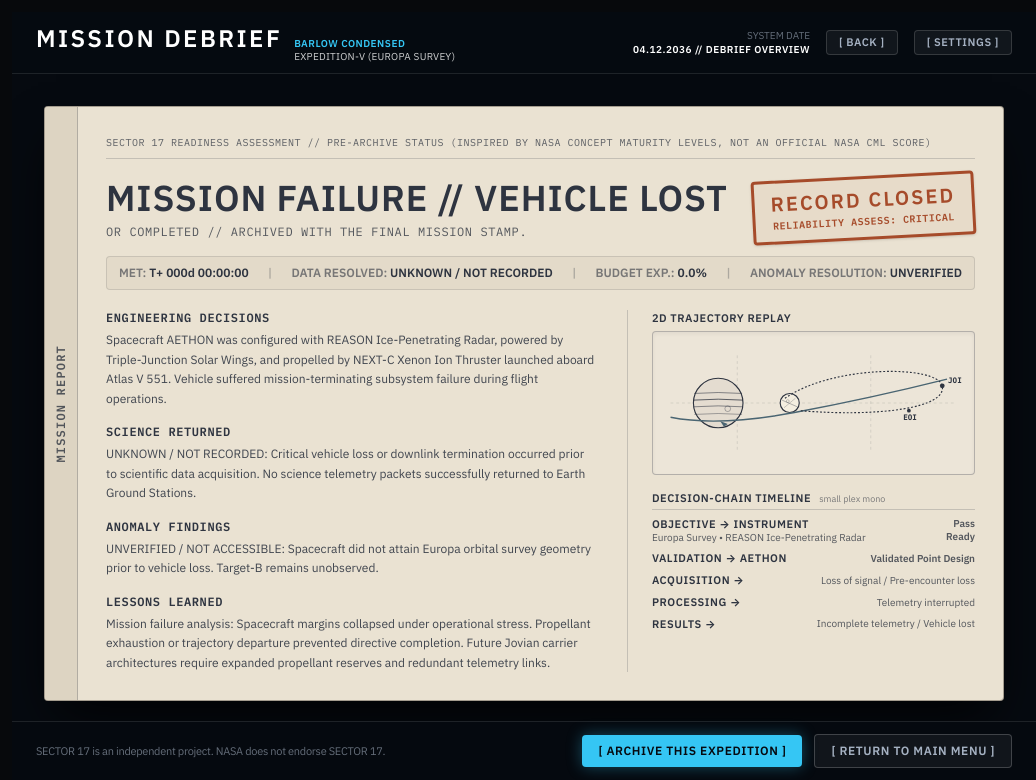
Phase 7.6 / 8.1 Mission Debrief Dossier › 10. navigates back to operations console on [ BACK ] click
Click the button "[ BACK ]".
click(862, 43)  # box [826, 30, 898, 55]
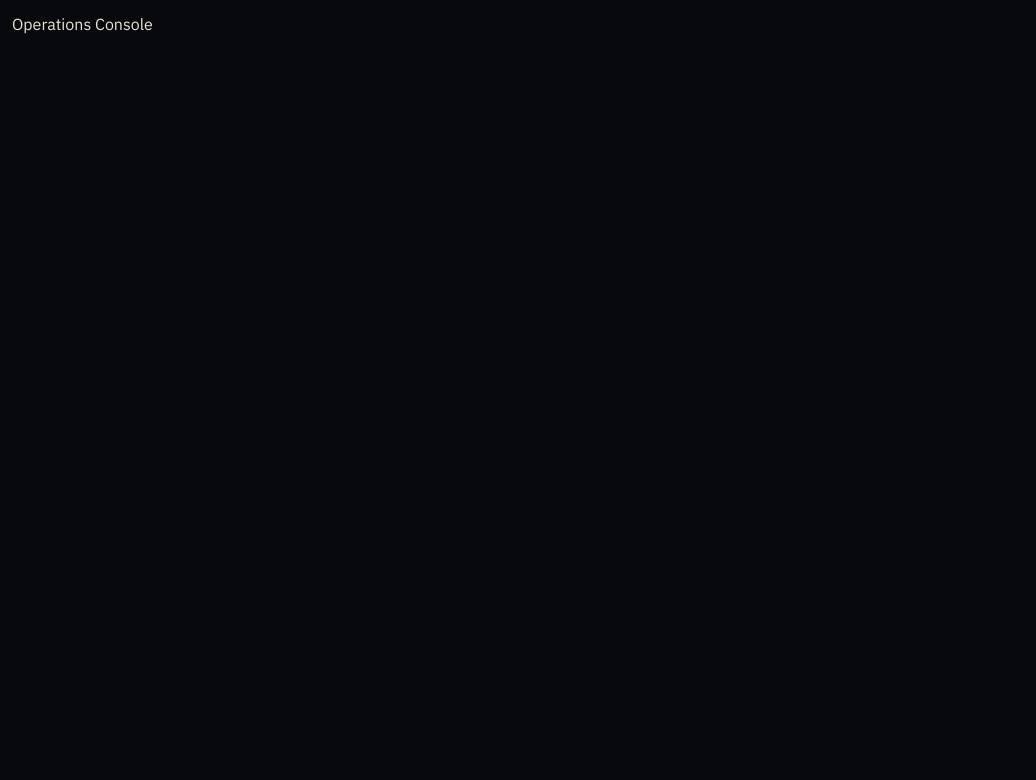
Now the text "Operations Console" is shown, box [12, 14, 153, 34]
